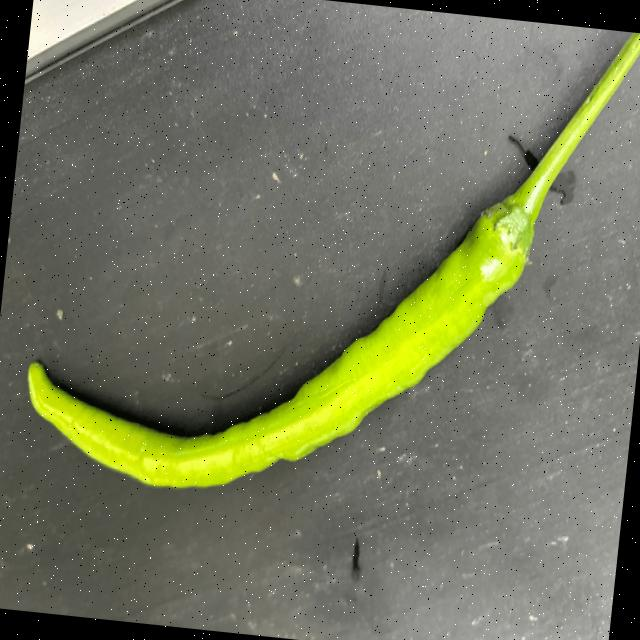chili: (24, 190, 538, 492)
